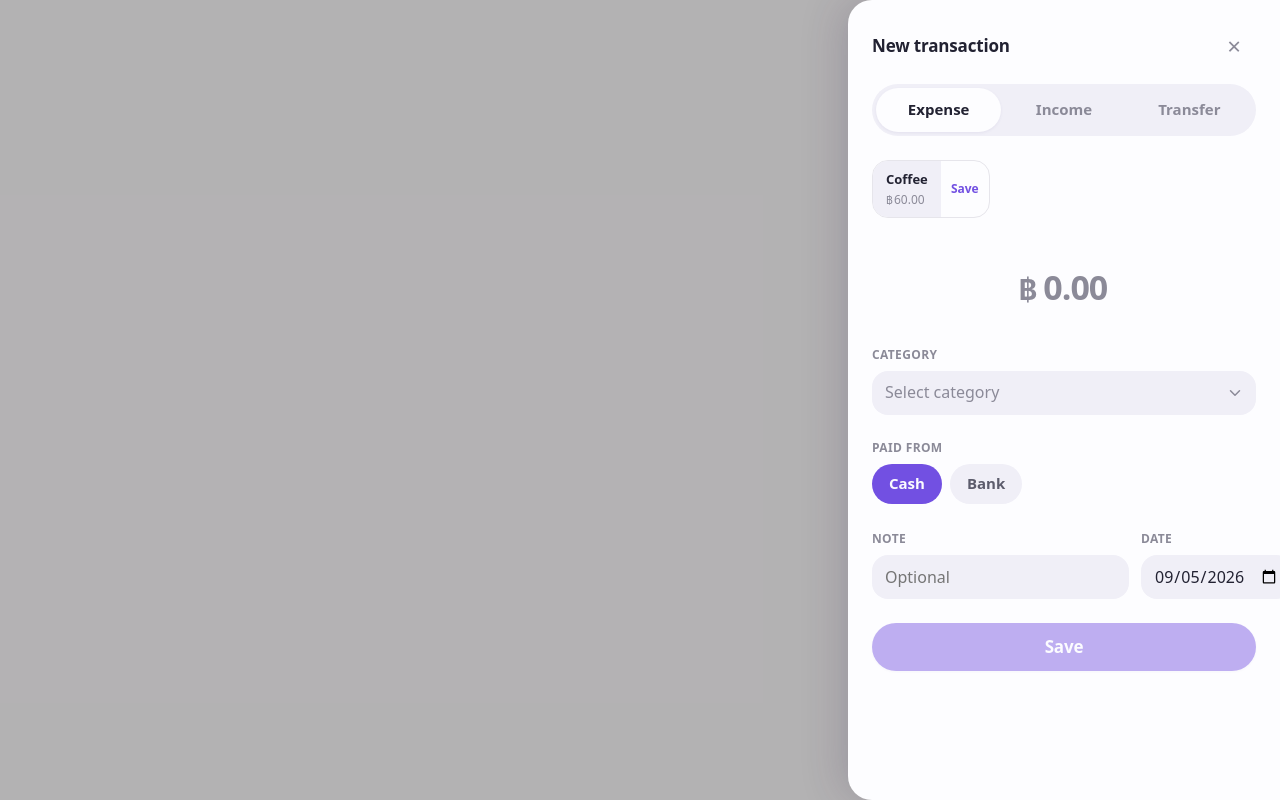
it: AddTransactionSheet › keeps Save disabled until an expense is valid
Expected: the 2nd button "Save" is disabled, left=872, top=624, right=1256, bottom=672
Type "120" into the field named "Amount in baht".
click(1075, 288); type("120")  # box left=1041, top=262, right=1109, bottom=314
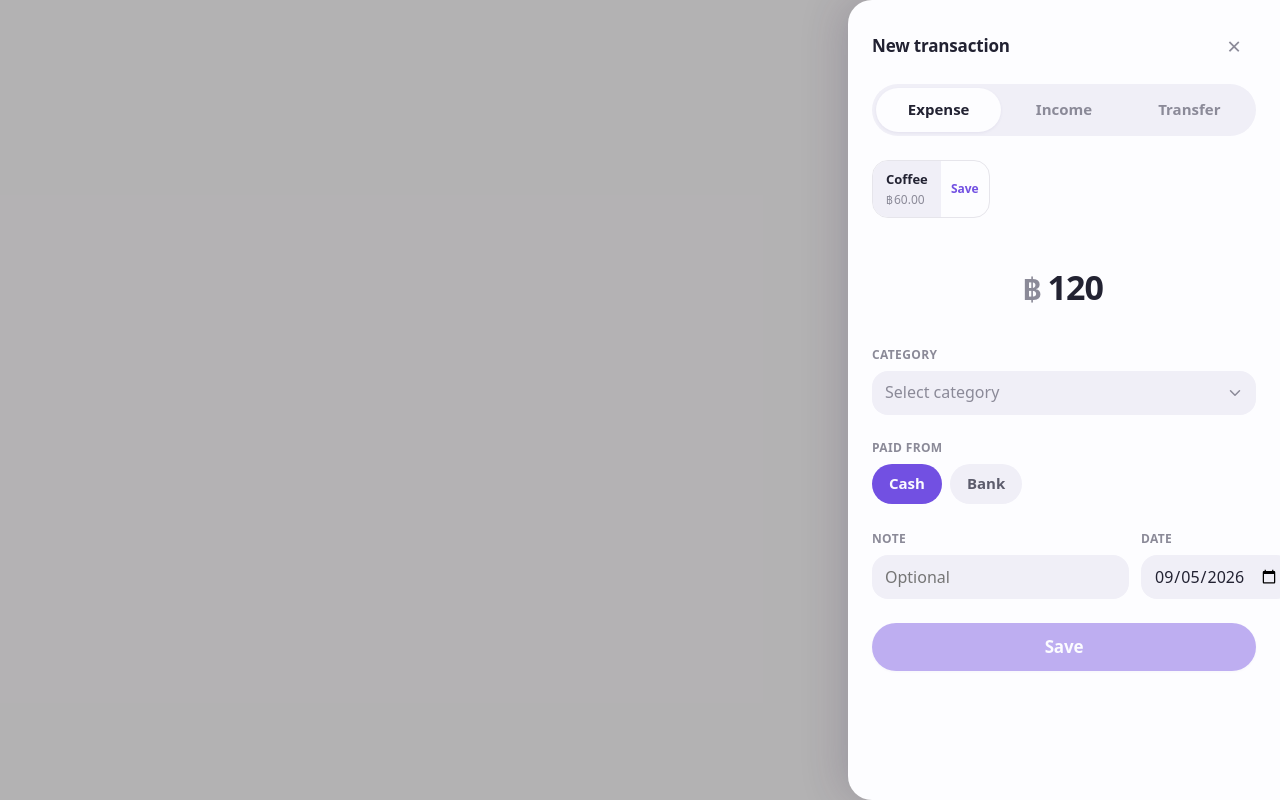
Select "Food" in the dropdown named "Category" at x=1064, y=393, box left=872, top=371, right=1256, bottom=415
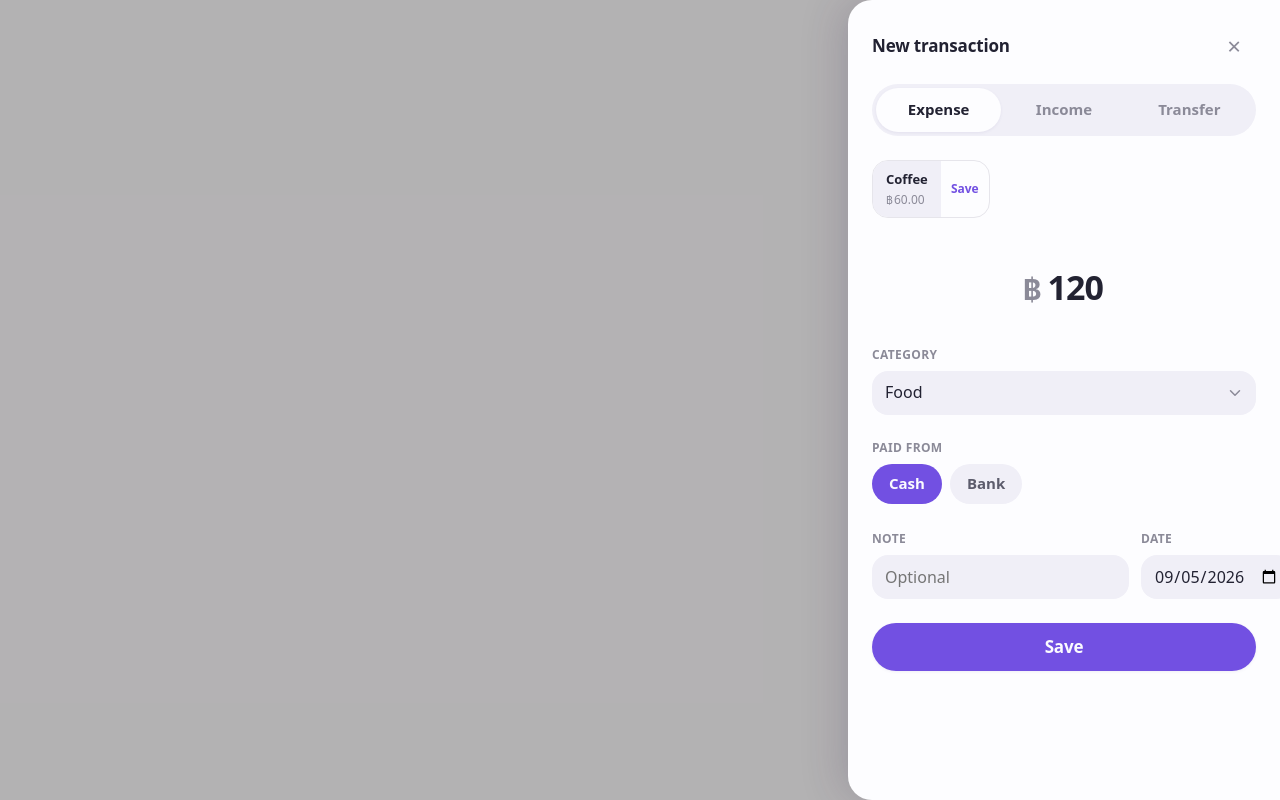
Expected: the 2nd button "Save" is enabled, left=872, top=624, right=1256, bottom=672
